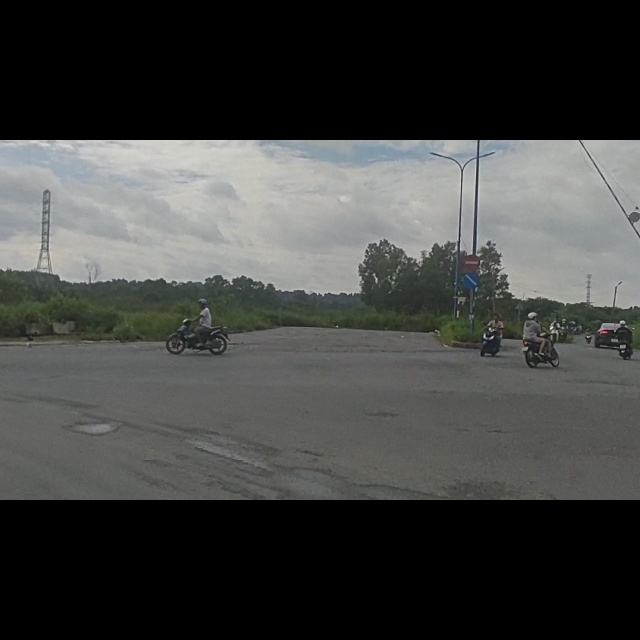bien_cam: (460, 233, 480, 264), (464, 201, 481, 232)
